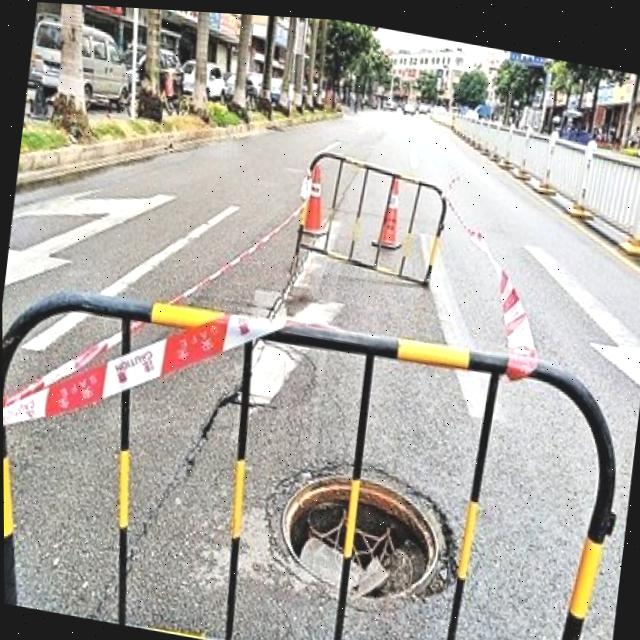manhole: (265, 449, 464, 611)
